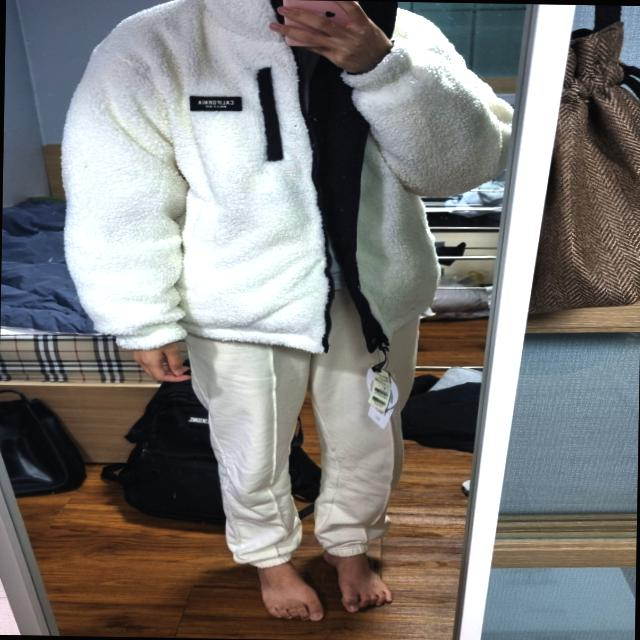padding: (57, 0, 517, 358)
trainingpants: (187, 280, 410, 568)
